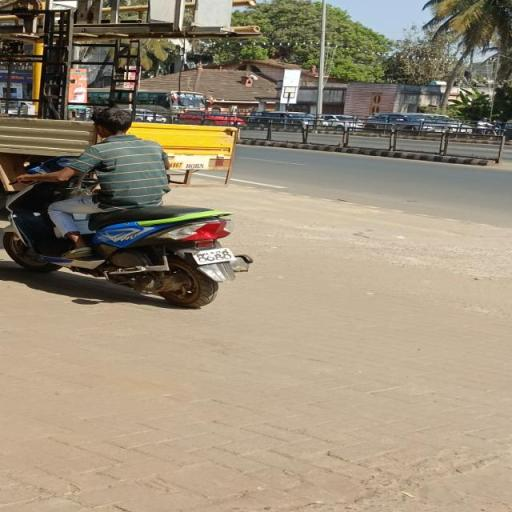numberplate: (190, 243, 235, 268)
withouthelmet: (93, 110, 131, 135)
